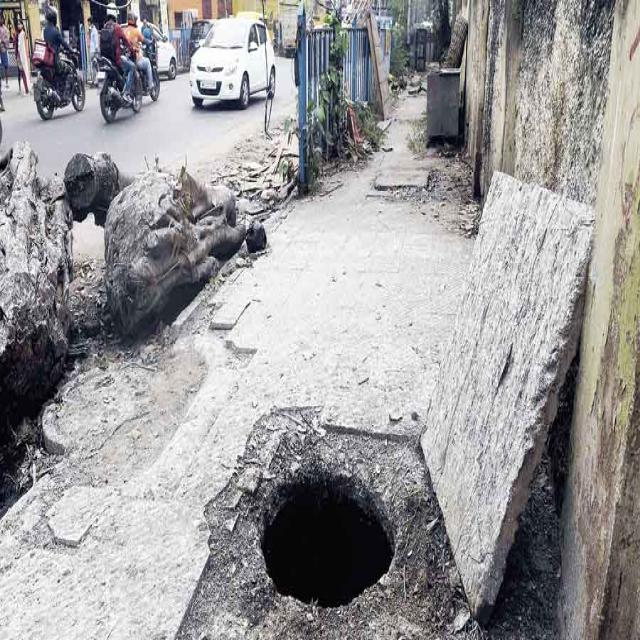Car: (189, 18, 275, 108)
